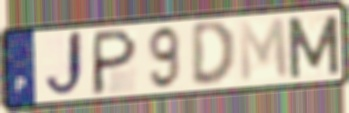9: (145, 23, 182, 91)
D: (189, 19, 238, 89)
J: (42, 28, 87, 102)
M: (284, 13, 343, 81), (237, 15, 291, 85)
P: (89, 26, 140, 97)
